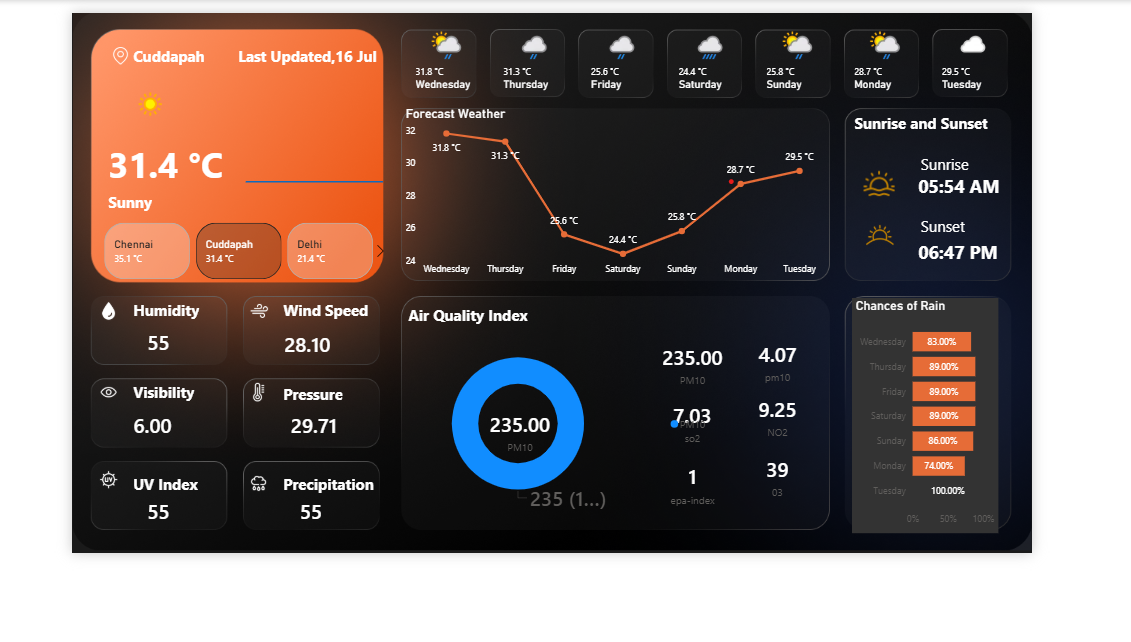

The page's visual inventory and layout, read from the dashboard file:
{"tool":"powerbi","page":{"name":"Page 1","canvas":[1280,720],"ordinal":0},"visuals":[{"type":"advancedSlicerVisual","fields":{"Values":["locations.location.name"]},"box":[18.7,274.7,408,85.3],"z":0},{"type":"shape","box":[49.1,150,158.7,102.4],"z":1000},{"type":"shape","box":[49.1,229.4,183.2,44.7],"z":2000},{"type":"shape","box":[82.2,34.6,183.2,44.7],"z":3000},{"type":"shape","box":[222.2,34.6,193.3,44.7],"z":4000},{"type":"image","box":[49.1,34.6,33.2,44.7],"z":5000},{"type":"cardVisual","fields":{"Data":["Min(Current Data.current.condition.icon)"]},"box":[49.1,56.3,109.6,134.2],"z":6000},{"type":"shape","box":[82.2,373.7,134.2,44.7],"z":7000},{"type":"image","box":[31.7,379.4,34.6,34.6],"z":8000},{"type":"image","box":[31.7,489.1,34.6,34.6],"z":9000},{"type":"image","box":[31.7,604.5,34.6,34.6],"z":10000},{"type":"image","box":[232.3,489.1,34.6,34.6],"z":11000},{"type":"image","box":[232.3,608.8,34.6,37.5],"z":12000},{"type":"shape","box":[82.2,483.3,134.2,44.7],"z":13000},{"type":"shape","box":[82.2,604.5,134.2,44.7],"z":14000},{"type":"shape","box":[281.3,604.5,134.2,44.7],"z":15000},{"type":"shape","box":[281.3,484.8,134.2,44.7],"z":16000},{"type":"shape","box":[281.7,373.3,133.3,45],"z":17000},{"type":"image","box":[232.3,379.4,36.1,34.6],"z":18000},{"type":"card","fields":{"Values":["Sum(Current Data.current.humidity)"]},"box":[82.2,414.1,67.8,54.8],"z":19000},{"type":"card","fields":{"Values":["Sum(Current Data.current.wind_kph)"]},"box":[248.9,414.9,131,54.6],"z":20000},{"type":"card","fields":{"Values":["Sum(Current Data.current.vis_km)"]},"box":[65.5,524.1,85.2,54.6],"z":21000},{"type":"card","fields":{"Values":["Sum(Current Data.current.pressure_in)"]},"box":[265.3,524,115.1,55.1],"z":22000},{"type":"card","fields":{"Values":["Sum(Current Data.current.humidity)"]},"box":[82.2,639.1,67.8,54.8],"z":23000},{"type":"card","fields":{"Values":["Sum(Current Data.current.humidity)"]},"box":[285.7,639.1,67.8,54.8],"z":24000},{"type":"advancedSlicerVisual","fields":{"Values":["ForecastData_day.Day Name"]},"box":[440,11.7,826.7,111.7],"z":25000},{"type":"lineChart","title":"Forecast Weather","fields":{"Y":["Sum(ForecastData_day.forecast.forecastday.day.avgtemp_c)"],"Category":["ForecastData_day.Day Name"]},"box":[440,123.3,566.7,236.7],"z":26000},{"type":"shape","box":[1043.3,123.3,191.7,45],"z":27000},{"type":"shape","box":[1128.3,188.3,125,83.3],"z":28000},{"type":"shape","box":[1128.3,276.7,126.7,83.3],"z":29000},{"type":"shape","box":[1131.7,158.3,148.3,83.3],"z":30000},{"type":"shape","box":[1131.7,241.7,148.3,83.3],"z":31000},{"type":"image","box":[1040,266.7,75,58.3],"z":32000},{"type":"image","box":[1043.3,201.7,65,51.7],"z":33000},{"type":"hundredPercentStackedBarChart","title":"Chances of Rain","fields":{"Y":["Sum(ForecastData_day.forecast.forecastday.day.daily_chance_of_rain)","ForecastData_day.left_value_rain"],"Category":["ForecastData_day.Day Name"]},"box":[1040,380,195,313.3],"z":34000},{"type":"shape","box":[448.3,380,191.7,45],"z":35000},{"type":"card","fields":{"Values":["Sum(Current Data.current.air_quality.co)"]},"box":[761.7,428.3,131.7,80],"z":36000},{"type":"card","fields":{"Values":["Sum(Current Data.current.air_quality.no2)"]},"box":[875,498.3,131.7,80],"z":37000},{"type":"card","fields":{"Values":["Sum(Current Data.current.air_quality.o3)"]},"box":[875,578.3,131.7,80],"z":38000},{"type":"card","fields":{"Values":["Sum(Current Data.current.air_quality.pm10)"]},"box":[875,425,131.7,80],"z":39000},{"type":"card","fields":{"Values":["Sum(Current Data.current.air_quality.so2)"]},"box":[761.7,506.7,131.7,80],"z":40000},{"type":"card","fields":{"Values":["Sum(Current Data.current.air_quality.us-epa-index)"]},"box":[761.7,588.3,131.7,80],"z":41000},{"type":"donutChart","fields":{"Y":["Sum(Current Data.current.air_quality.co)"]},"box":[448.3,408.3,410,278.3],"z":42000},{"type":"card","fields":{"Values":["Sum(Current Data.current.air_quality.co)"]},"box":[531.7,518.3,131.7,80],"z":43000},{"type":"shape","box":[232,150,183,150],"z":44000}]}

Visuals, with their boxes in screenshot pixels (x1, y1, x2, y2), scaled from the page's 1280x720 canvas onto the 1131x642 screenshot:
advancedSlicerVisual - locations.location.name: 17/245/377/321
shape: 43/134/184/225
shape: 43/205/205/244
shape: 73/31/235/71
shape: 196/31/367/71
image: 43/31/73/71
cardVisual - Min(Current Data.current.condition.icon): 43/50/140/170
shape: 73/333/191/373
image: 28/338/59/369
image: 28/436/59/467
image: 28/539/59/570
image: 205/436/236/467
image: 205/543/236/576
shape: 73/431/191/471
shape: 73/539/191/579
shape: 249/539/367/579
shape: 249/432/367/472
shape: 249/333/367/373
image: 205/338/237/369
card - Sum(Current Data.current.humidity): 73/369/133/418
card - Sum(Current Data.current.wind_kph): 220/370/336/419
card - Sum(Current Data.current.vis_km): 58/467/133/516
card - Sum(Current Data.current.pressure_in): 234/467/336/516
card - Sum(Current Data.current.humidity): 73/570/133/619
card - Sum(Current Data.current.humidity): 252/570/312/619
advancedSlicerVisual - ForecastData_day.Day Name: 389/10/1119/110
"Forecast Weather" lineChart: 389/110/890/321
shape: 922/110/1091/150
shape: 997/168/1107/242
shape: 997/247/1109/321
shape: 1000/141/1130/215
shape: 1000/216/1130/290
image: 919/238/985/290
image: 922/180/979/226
"Chances of Rain" hundredPercentStackedBarChart: 919/339/1091/618
shape: 396/339/566/379
card - Sum(Current Data.current.air_quality.co): 673/382/789/453
card - Sum(Current Data.current.air_quality.no2): 773/444/890/516
card - Sum(Current Data.current.air_quality.o3): 773/516/890/587
card - Sum(Current Data.current.air_quality.pm10): 773/379/890/450
card - Sum(Current Data.current.air_quality.so2): 673/452/789/523
card - Sum(Current Data.current.air_quality.us-epa-index): 673/525/789/596
donutChart - Sum(Current Data.current.air_quality.co): 396/364/758/612
card - Sum(Current Data.current.air_quality.co): 470/462/586/533
shape: 205/134/367/268
